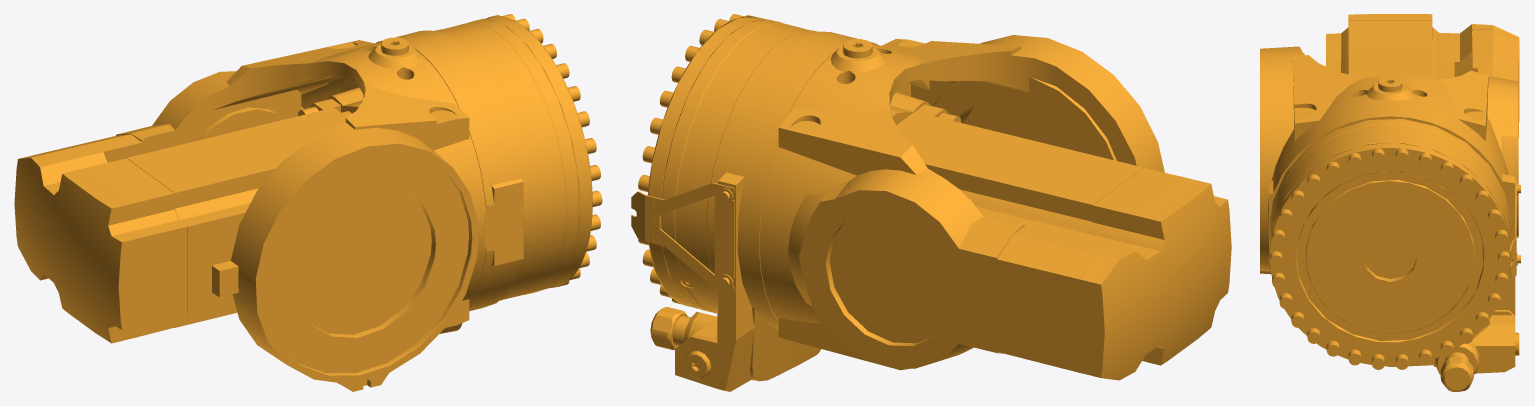
The model's file is ABBIRB6740_260_300Link5.dae.
3 views of the same model, side by side, from view 1: azimuth 30°, elevation 25°; view 2: azimuth 150°, elevation 25°; view 3: azimuth 270°, elevation 25° (orthographic). The views are drawn at different scales.
Visible parts, largest first — view 1: Link5.003; view 2: Link5.003; view 3: Link5.003.
Boxes of the visible parts, bbox=[...] form: Link5.003: bbox=[14, 14, 602, 391]; Link5.003: bbox=[631, 14, 1231, 391]; Link5.003: bbox=[1260, 14, 1520, 391].
Bounding box in the file's own units: 0.3612 × 0.2023 × 0.2231.
